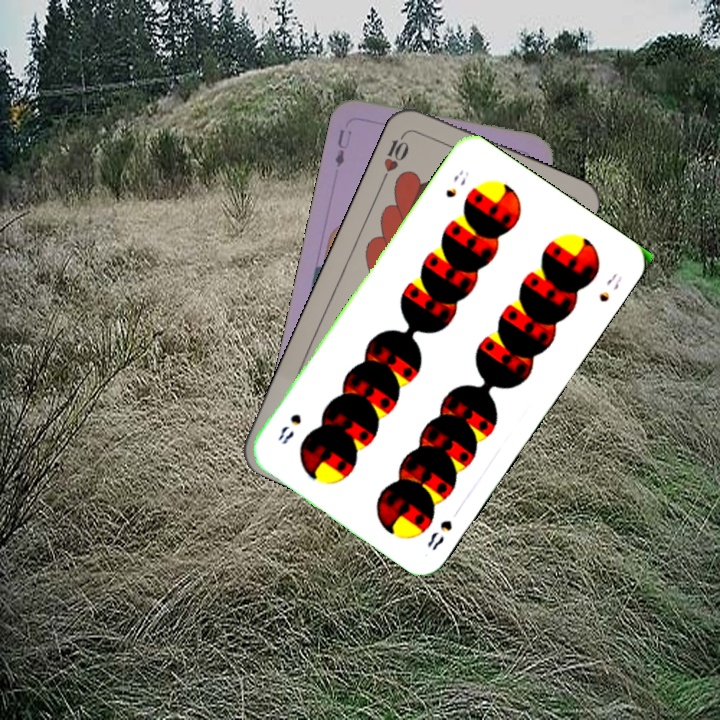EU: (331, 125, 354, 170)
H10: (378, 128, 412, 184)
S8: (423, 516, 455, 553), (441, 166, 472, 201)
